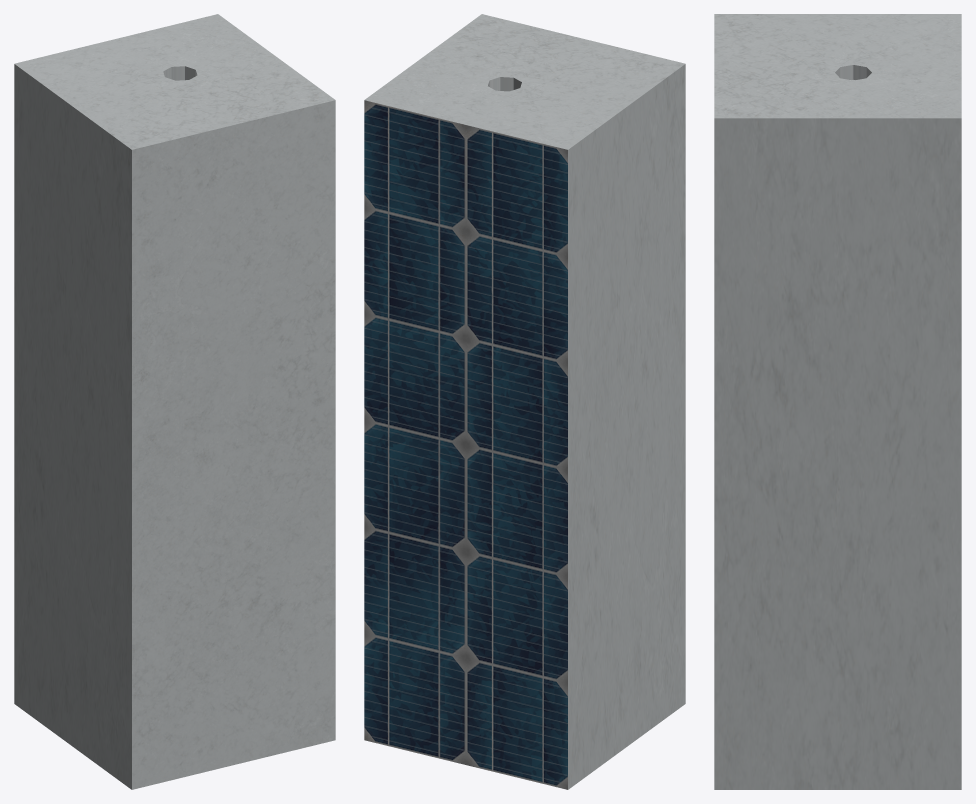
Rendered from large_cubesat_female.dae.
The picture shows the model from 3 angles, left to right: view 1: azimuth 30°, elevation 25°; view 2: azimuth 150°, elevation 25°; view 3: azimuth 270°, elevation 25°; orthographic projection. The views are drawn at different scales.
Parts seen in each view (by area): view 1: Cube.001; view 2: Cube.001; view 3: Cube.001.
Part boxes in pixels (x1,y1,x2,y2): Cube.001: (14,14,335,789); Cube.001: (364,14,685,789); Cube.001: (714,14,961,789).
Size of the model in its own units: 0.1 by 0.1 by 0.3.
2 materials, 2 textured.
